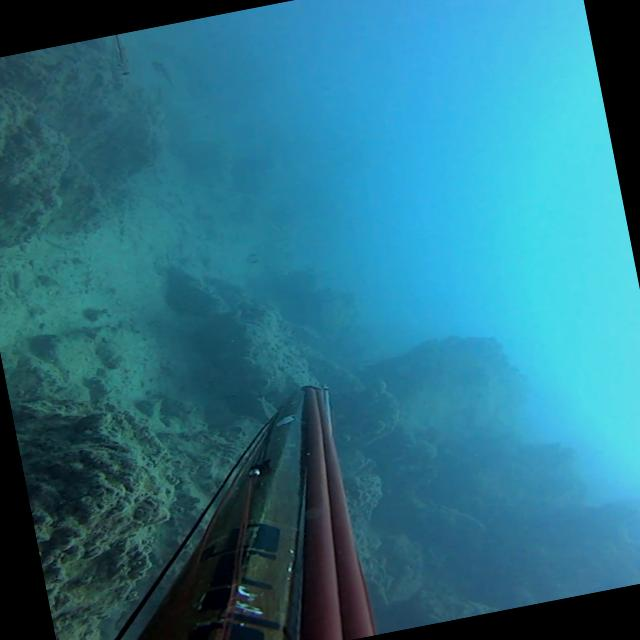Balon Baligi: (106, 32, 132, 81), (152, 57, 174, 90), (256, 394, 279, 421), (247, 252, 260, 263)
